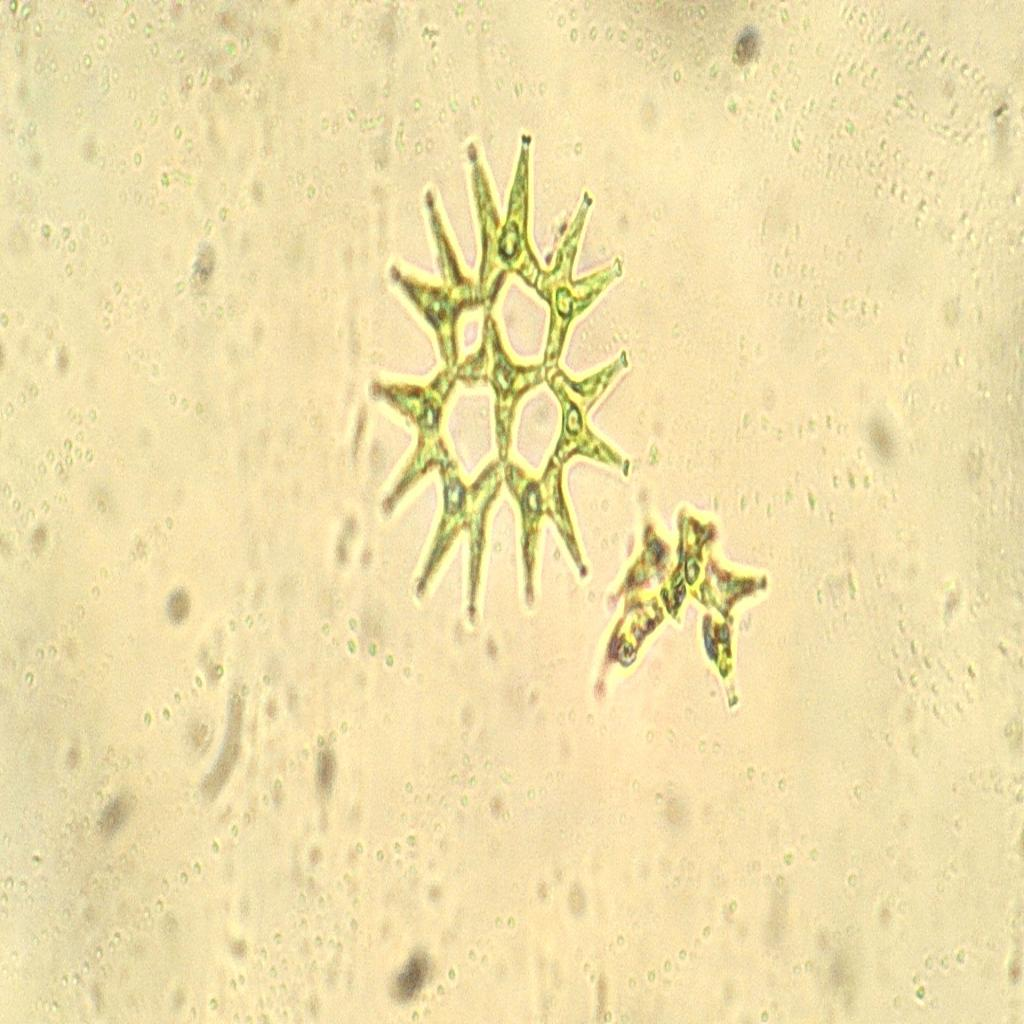Pediastrum_75T: (360, 121, 634, 644)
